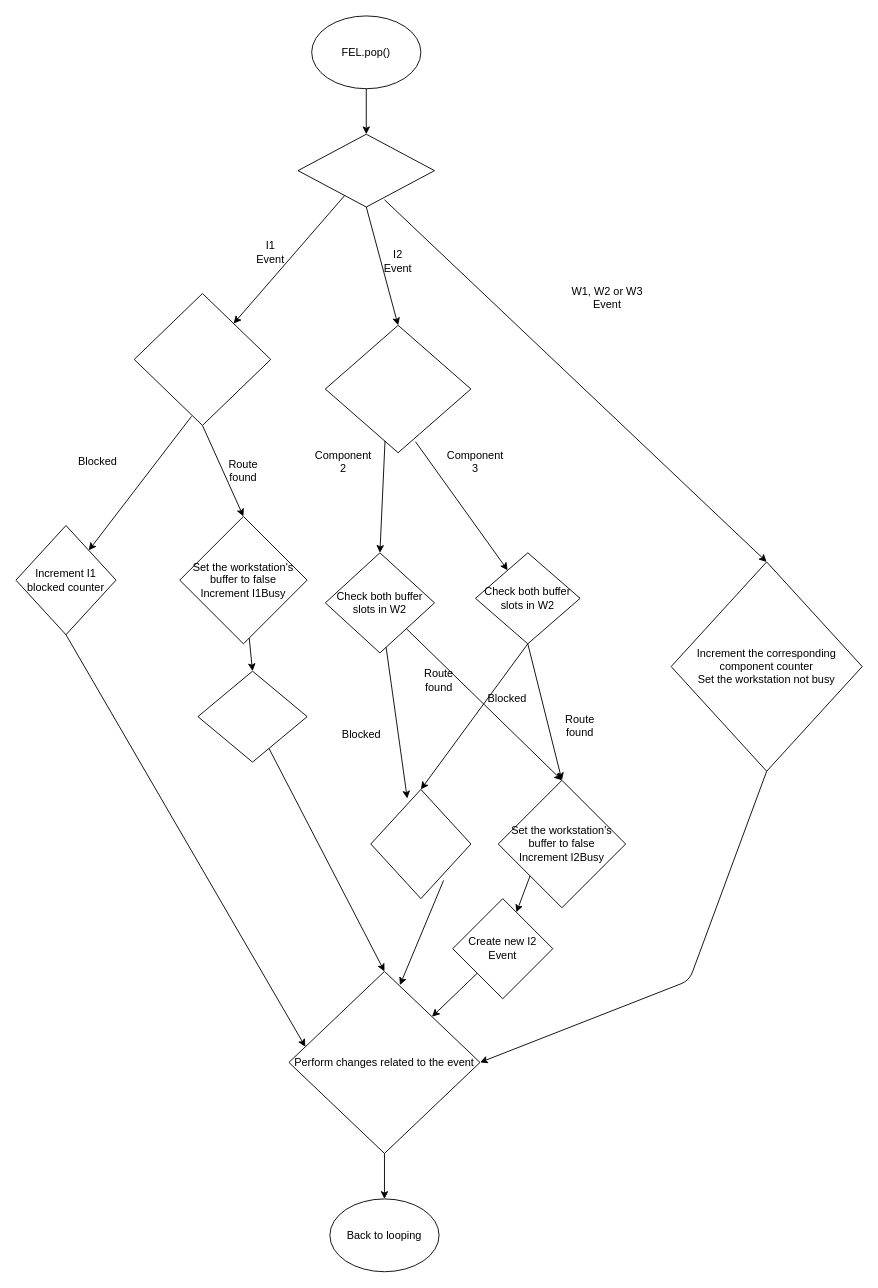
This 878x1288 diagram has some shape labels left out. The shapes that lost their labels are listed below. From the top down, each one's centre as x and y in pixels, then its label:
point 366,170: Switch Event Type
point 202,359: Determine component route from Priority scheduler
point 397,388: Determine component produced from the event
point 252,716: Create new I1 Event
point 420,844: Increment I2 blocked counter
